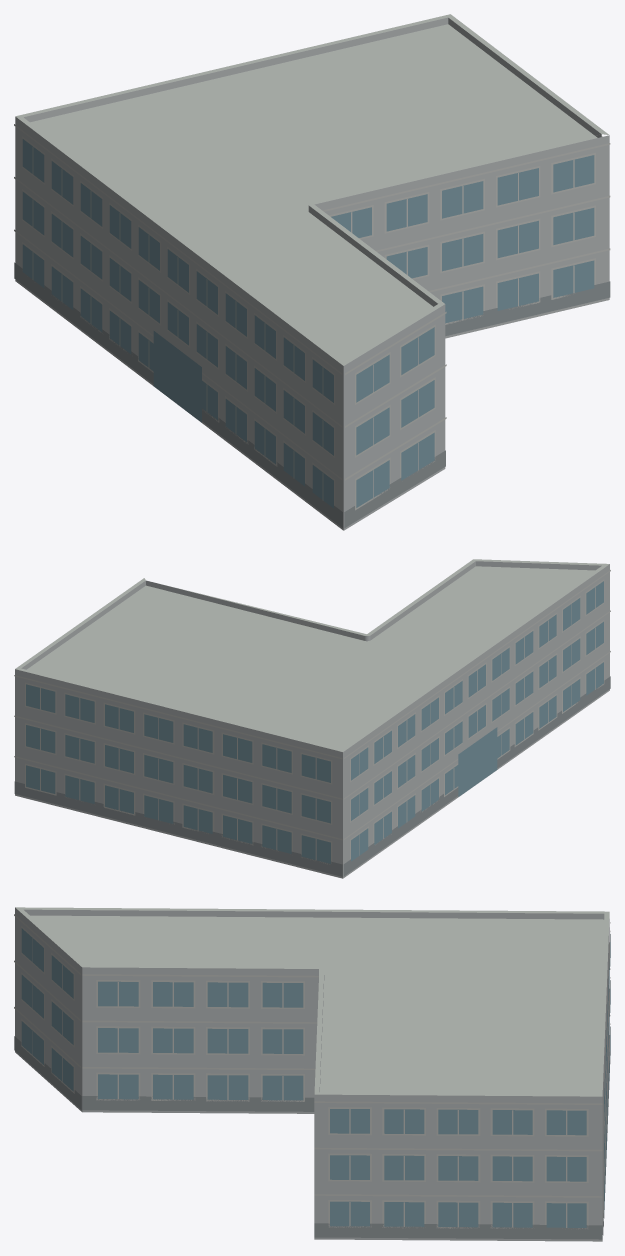
The model's file is public-0a121e06-1acd-4d39-8498-3ed56713bc49.glb.
The picture shows the model from 3 angles, top to bottom: view 1: azimuth 30°, elevation 25°; view 2: azimuth 150°, elevation 25°; view 3: azimuth 270°, elevation 25°; orthographic projection. The views are drawn at different scales.
Visible parts, largest first — view 1: public-0a121e06-1acd-4d39-8498-3ed56713bc49; view 2: public-0a121e06-1acd-4d39-8498-3ed56713bc49; view 3: public-0a121e06-1acd-4d39-8498-3ed56713bc49.
Boxes of the visible parts, x1=… form: public-0a121e06-1acd-4d39-8498-3ed56713bc49: x1=14, y1=14, x2=610, y2=530; public-0a121e06-1acd-4d39-8498-3ed56713bc49: x1=14, y1=559, x2=610, y2=878; public-0a121e06-1acd-4d39-8498-3ed56713bc49: x1=14, y1=907, x2=610, y2=1241.
Bounding box in the file's own units: 26.66 × 9.15 × 34.16.
